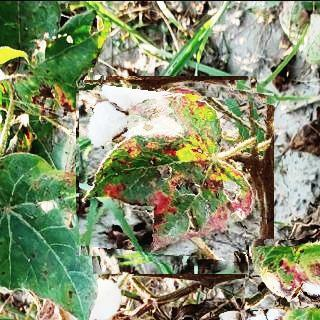blight: (79, 79, 271, 269), (249, 238, 320, 315)
